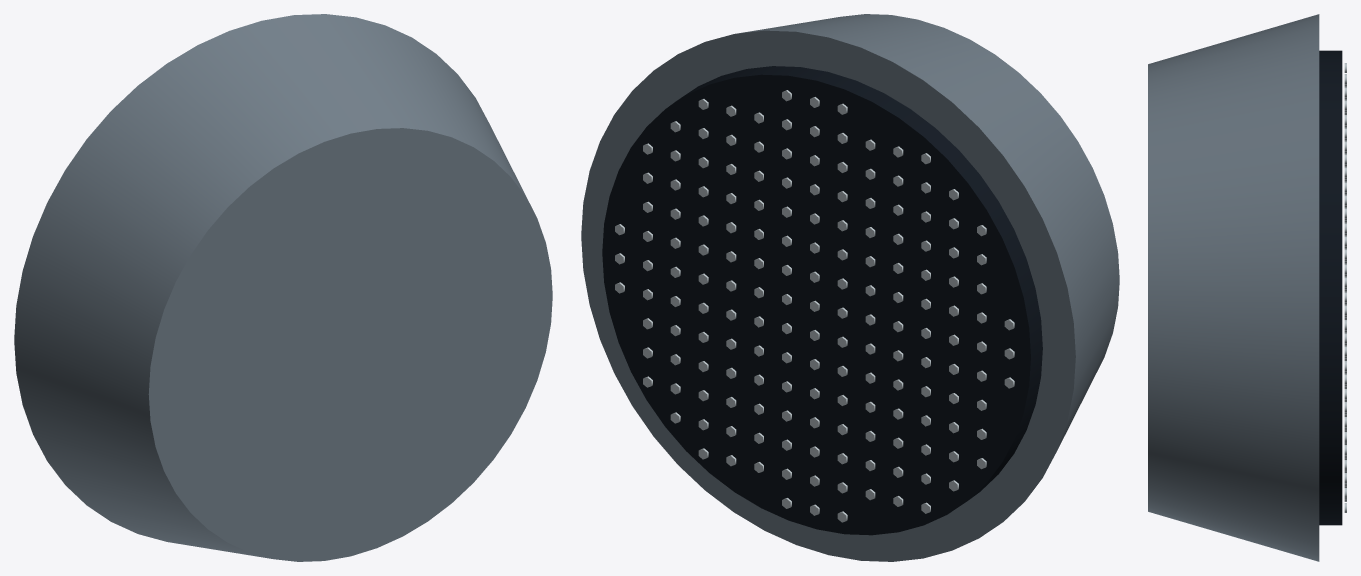
The model's file is dart_propulsion.next_c.glb.
3 views of the same model, side by side, from view 1: azimuth 30°, elevation 25°; view 2: azimuth 150°, elevation 25°; view 3: azimuth 270°, elevation 25° (orthographic). The views are drawn at different scales.
Parts seen in each view (by area): view 1: dart_propulsion.next_c.mesh_Machined_steel; view 2: dart_propulsion.next_c.ion_grid.mesh_Shadowed_interior, dart_propulsion.next_c.mesh_Machined_steel, dart_propulsion.next_c.ion_grid.mesh_Satin_aluminum; view 3: dart_propulsion.next_c.mesh_Machined_steel, dart_propulsion.next_c.ion_grid.mesh_Shadowed_interior, dart_propulsion.next_c.ion_grid.mesh_Satin_aluminum.
Boxes of the visible parts, x1,y1,x2,y2 form: dart_propulsion.next_c.mesh_Machined_steel: [14, 14, 552, 561]; dart_propulsion.next_c.ion_grid.mesh_Shadowed_interior: [602, 66, 1042, 535]; dart_propulsion.next_c.mesh_Machined_steel: [581, 14, 1119, 561]; dart_propulsion.next_c.ion_grid.mesh_Satin_aluminum: [615, 90, 1014, 522]; dart_propulsion.next_c.mesh_Machined_steel: [1148, 14, 1319, 561]; dart_propulsion.next_c.ion_grid.mesh_Shadowed_interior: [1319, 50, 1342, 525]; dart_propulsion.next_c.ion_grid.mesh_Satin_aluminum: [1344, 63, 1346, 512].
Size of the model in its own units: 0.48 by 0.48 by 0.174.
